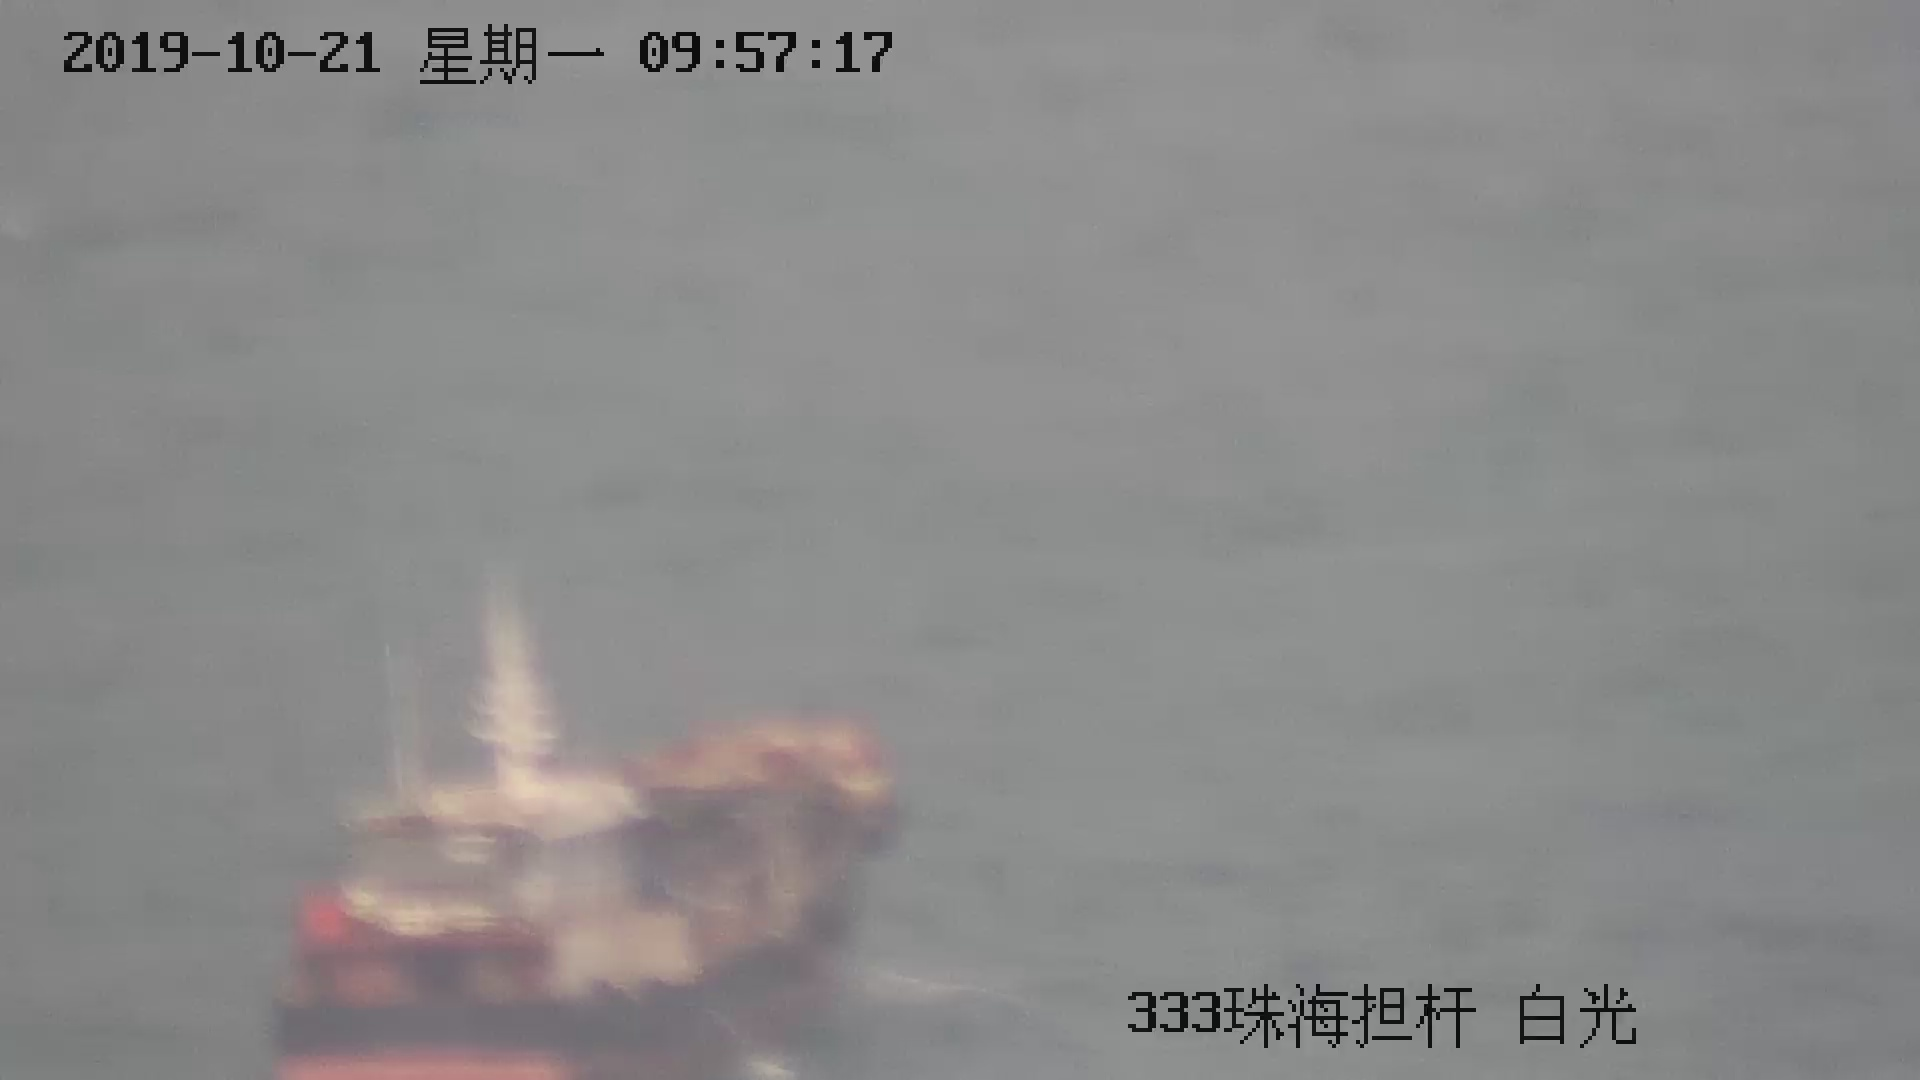ship: (268, 534, 881, 1080)
